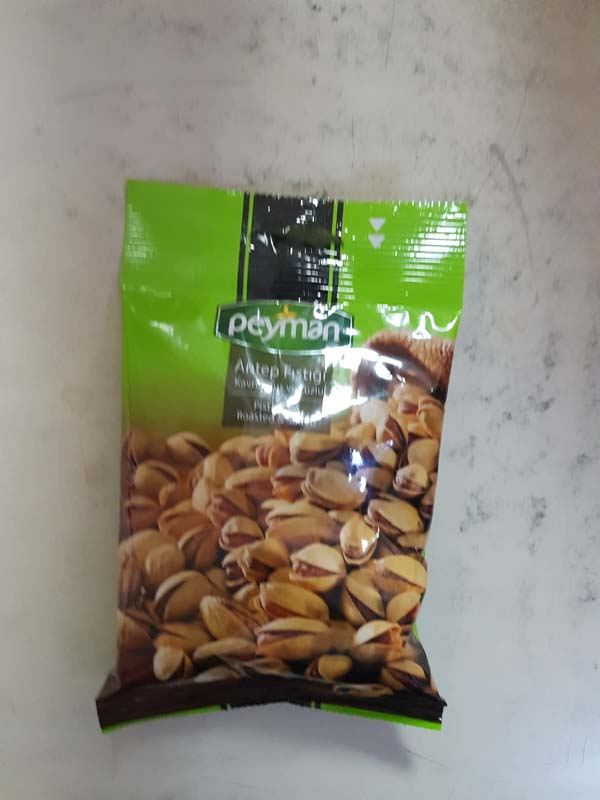antepfistigi: (102, 173, 482, 747)
